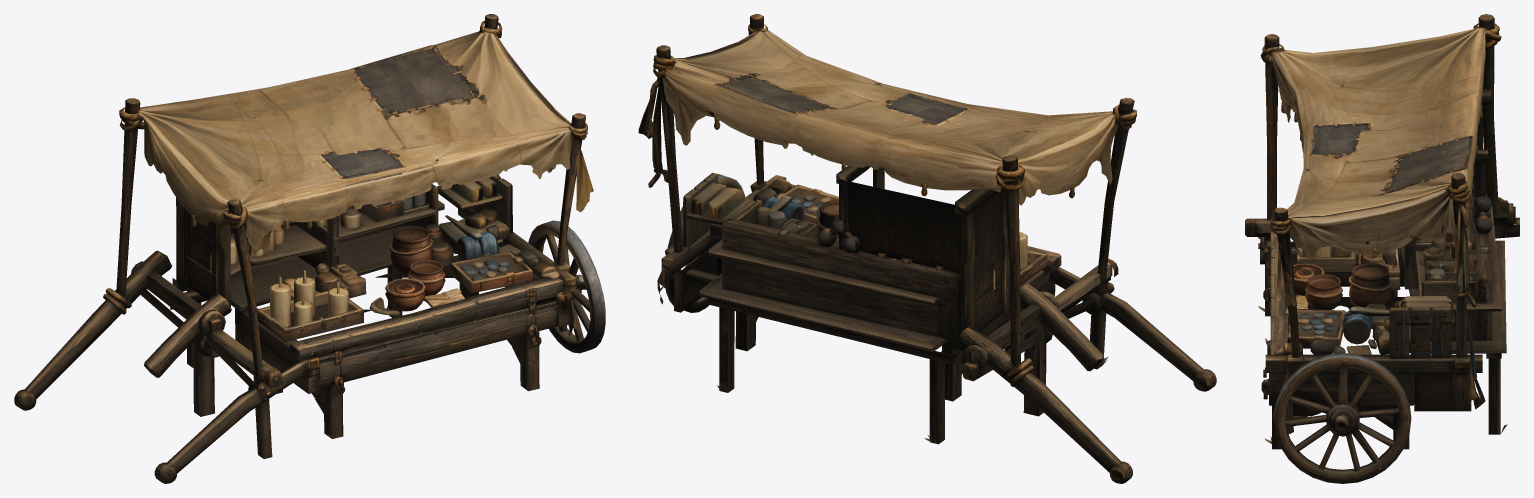
File: act1_extras_v1_grave_goods_stall.glb
3 renders of one model, left to right at view 1: azimuth 30°, elevation 25°; view 2: azimuth 150°, elevation 25°; view 3: azimuth 270°, elevation 25°, orthographic. The views are drawn at different scales.
Parts seen in each view (by area): view 1: d6174ba4_e606_43c7_a3cd_1b2c1d95ea0c; view 2: d6174ba4_e606_43c7_a3cd_1b2c1d95ea0c; view 3: d6174ba4_e606_43c7_a3cd_1b2c1d95ea0c.
Part boxes in pixels (bbox=[...]): d6174ba4_e606_43c7_a3cd_1b2c1d95ea0c: bbox=[14, 14, 605, 483]; d6174ba4_e606_43c7_a3cd_1b2c1d95ea0c: bbox=[638, 14, 1216, 483]; d6174ba4_e606_43c7_a3cd_1b2c1d95ea0c: bbox=[1245, 14, 1519, 483].
Bounding box in the file's own units: 0.9995 × 0.5718 × 0.48.
Materials: 1 (1 with a texture image).
